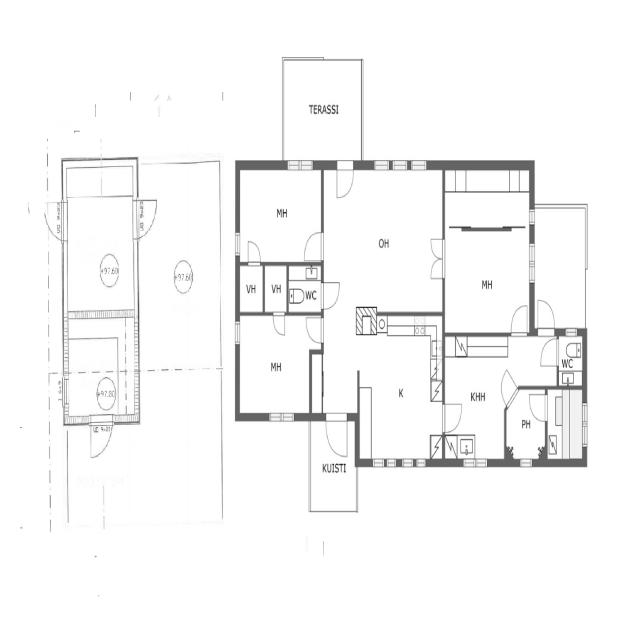door: (133, 197, 160, 240), (87, 417, 113, 461), (325, 412, 348, 458), (43, 197, 65, 242), (334, 158, 356, 202), (534, 296, 558, 336), (440, 398, 465, 436), (427, 235, 446, 284), (302, 228, 326, 263), (508, 300, 530, 338), (319, 278, 342, 313), (538, 334, 560, 369), (499, 368, 518, 408), (528, 390, 549, 424), (304, 313, 325, 346), (245, 236, 263, 267), (272, 310, 286, 338)
window: (284, 156, 316, 174), (266, 408, 297, 426), (580, 398, 590, 451), (459, 454, 492, 470), (526, 238, 537, 286), (372, 156, 398, 174), (400, 455, 428, 471), (389, 156, 413, 174), (370, 456, 396, 470), (408, 157, 429, 174), (232, 228, 242, 260), (517, 455, 534, 471), (233, 319, 242, 346), (562, 326, 580, 338), (528, 205, 536, 228), (62, 380, 68, 409)
zone: (322, 163, 444, 319), (358, 315, 444, 465), (63, 165, 136, 310), (443, 221, 532, 336), (279, 56, 366, 166), (237, 312, 321, 416), (236, 168, 324, 263), (442, 338, 506, 463), (66, 315, 138, 419), (533, 204, 587, 333), (443, 167, 531, 231), (309, 414, 356, 512), (505, 387, 547, 463), (546, 386, 586, 462), (287, 264, 323, 314), (556, 331, 584, 386), (238, 264, 264, 312), (264, 264, 288, 312)
